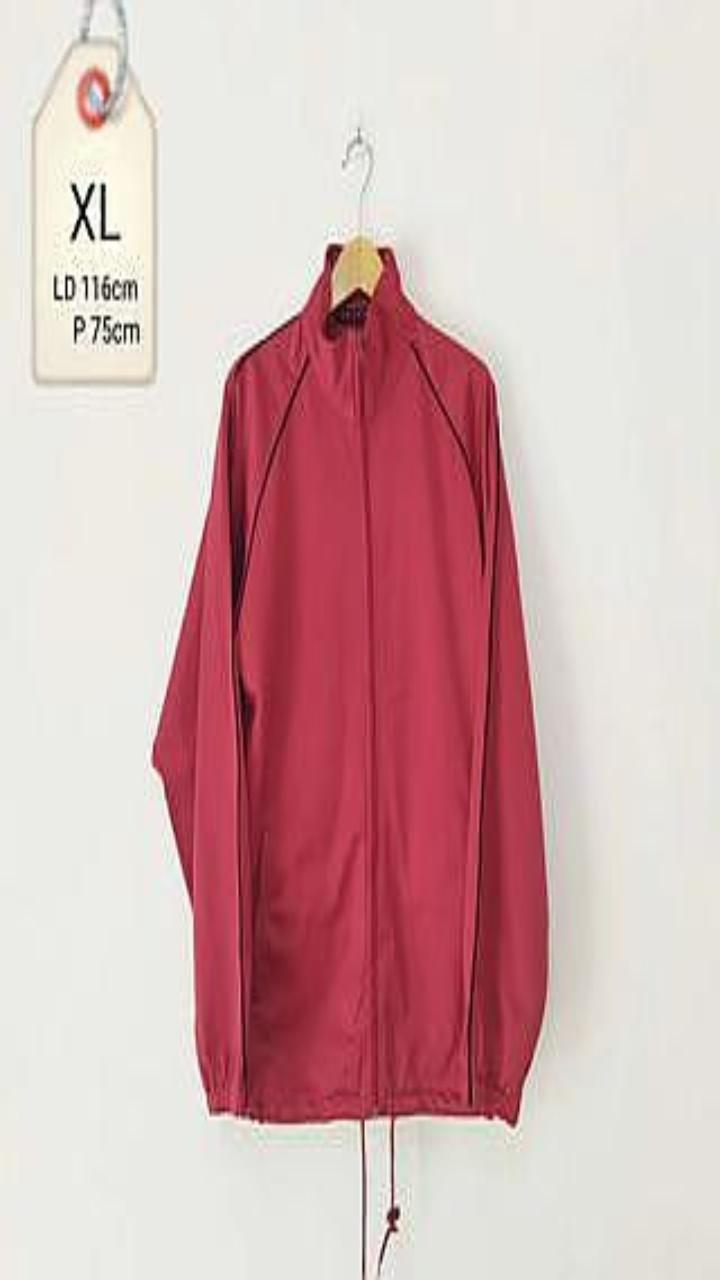Sports_Jacket: (152, 245, 547, 1125)
